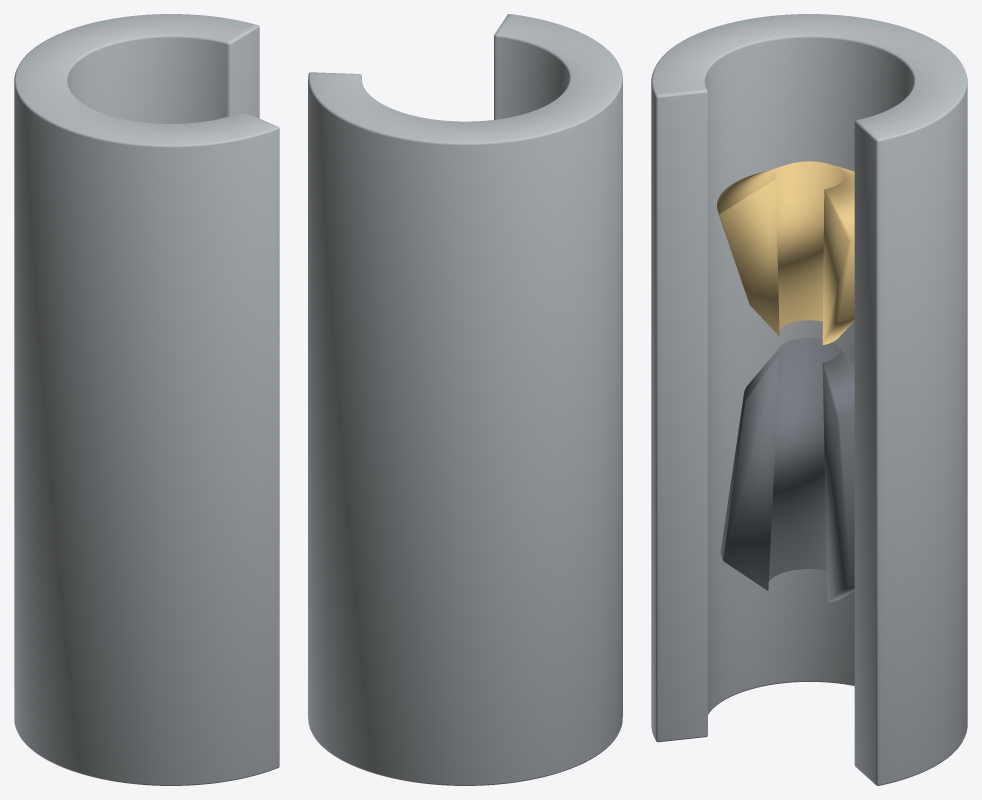
File: jet-pump.glb
The picture shows the model from 3 angles, left to right: view 1: azimuth 30°, elevation 25°; view 2: azimuth 150°, elevation 25°; view 3: azimuth 270°, elevation 25°; orthographic projection.
Visible parts, largest first — view 1: Jet pump housing; view 2: Jet pump housing; view 3: Jet pump housing, Throat diffuser, Nozzle.
Part boxes in pixels (x1,y1,x2,y2): Jet pump housing: (14, 14, 279, 785); Jet pump housing: (308, 14, 622, 785); Jet pump housing: (651, 14, 967, 785); Throat diffuser: (720, 338, 854, 602); Nozzle: (717, 161, 854, 344).
Size of the model in its own units: 1.56 by 3.7 by 1.64.
